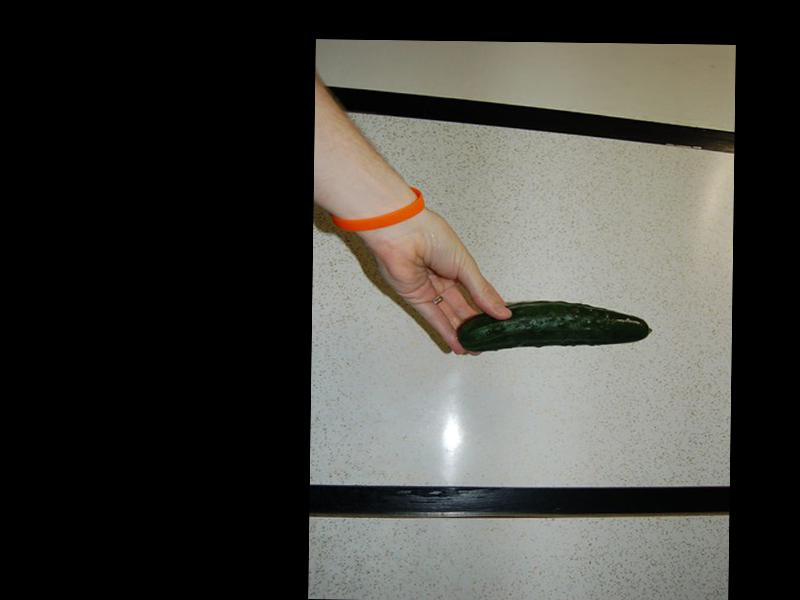Cucumber: (456, 301, 653, 354)
